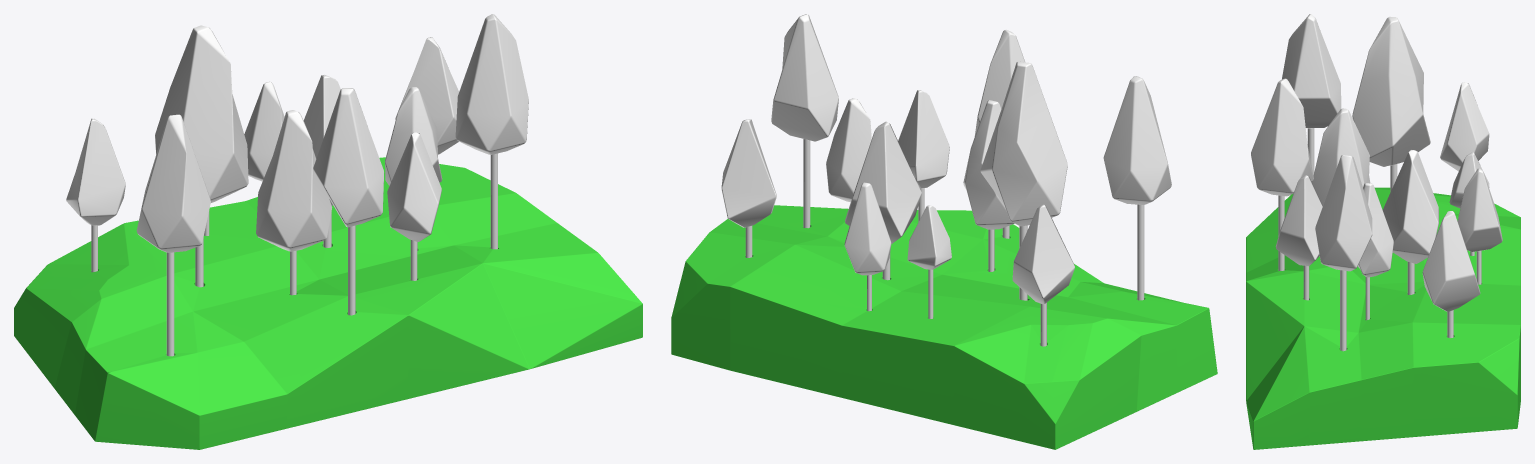
The model's file is wood-island.gltf.
3 renders of one model, left to right at view 1: azimuth 30°, elevation 25°; view 2: azimuth 150°, elevation 25°; view 3: azimuth 270°, elevation 25°, orthographic. The views are drawn at different scales.
Parts seen in each view (by area): view 1: Cube, Icosphere.011, Icosphere, Icosphere.002, Icosphere.008, Icosphere.007, Icosphere.004, Icosphere.005, Icosphere.003, Icosphere.010, Icosphere.009, Icosphere.001 (+3 smaller); view 2: Cube, Icosphere.011, Icosphere.008, Icosphere, Icosphere.001, Icosphere.003, Icosphere.005, Icosphere.004, Icosphere.010, Icosphere.009, Icosphere.002, Icosphere.006 (+3 smaller); view 3: Cube, Icosphere.011, Icosphere.007, Icosphere, Icosphere.008, Icosphere.001, Icosphere.003, Icosphere.002, Icosphere.004, Icosphere.005, Icosphere.009, Icosphere.010 (+3 smaller).
Boxes of the visible parts, box(x1,y1,x2,y2) form: Cube: box(14, 157, 642, 449); Icosphere.011: box(155, 25, 248, 202); Icosphere: box(455, 14, 528, 154); Icosphere.002: box(256, 110, 332, 251); Icosphere.008: box(136, 114, 210, 252); Icosphere.007: box(313, 88, 384, 227); Icosphere.004: box(387, 132, 441, 241); Icosphere.005: box(66, 118, 125, 225); Icosphere.003: box(395, 37, 458, 154); Icosphere.010: box(385, 87, 442, 185); Icosphere.009: box(244, 81, 284, 181); Icosphere.001: box(303, 75, 340, 205); Cube: box(671, 205, 1217, 449); Icosphere.011: box(980, 61, 1067, 226); Icosphere.008: box(1103, 76, 1171, 204); Icosphere: box(771, 14, 838, 141); Icosphere.001: box(845, 121, 921, 243); Icosphere.003: box(721, 119, 776, 227); Icosphere.005: box(1012, 204, 1074, 304); Icosphere.004: box(898, 90, 949, 188); Icosphere.010: box(826, 98, 871, 202); Icosphere.009: box(844, 182, 891, 275); Icosphere.002: box(963, 100, 1014, 229); Icosphere.006: box(907, 205, 951, 269); Cube: box(1246, 187, 1520, 449); Icosphere.011: box(1352, 16, 1430, 166); Icosphere.007: box(1251, 78, 1313, 196); Icosphere: box(1315, 155, 1372, 271); Icosphere.008: box(1282, 14, 1341, 128); Icosphere.001: box(1382, 150, 1438, 263); Icosphere.003: box(1422, 211, 1480, 311); Icosphere.002: box(1312, 108, 1370, 205); Icosphere.004: box(1275, 175, 1322, 266); Icosphere.005: box(1440, 82, 1489, 171); Icosphere.009: box(1457, 168, 1502, 251); Icosphere.010: box(1358, 183, 1393, 277).
Size of the model in its own units: 8.97 by 5.57 by 4.9.
